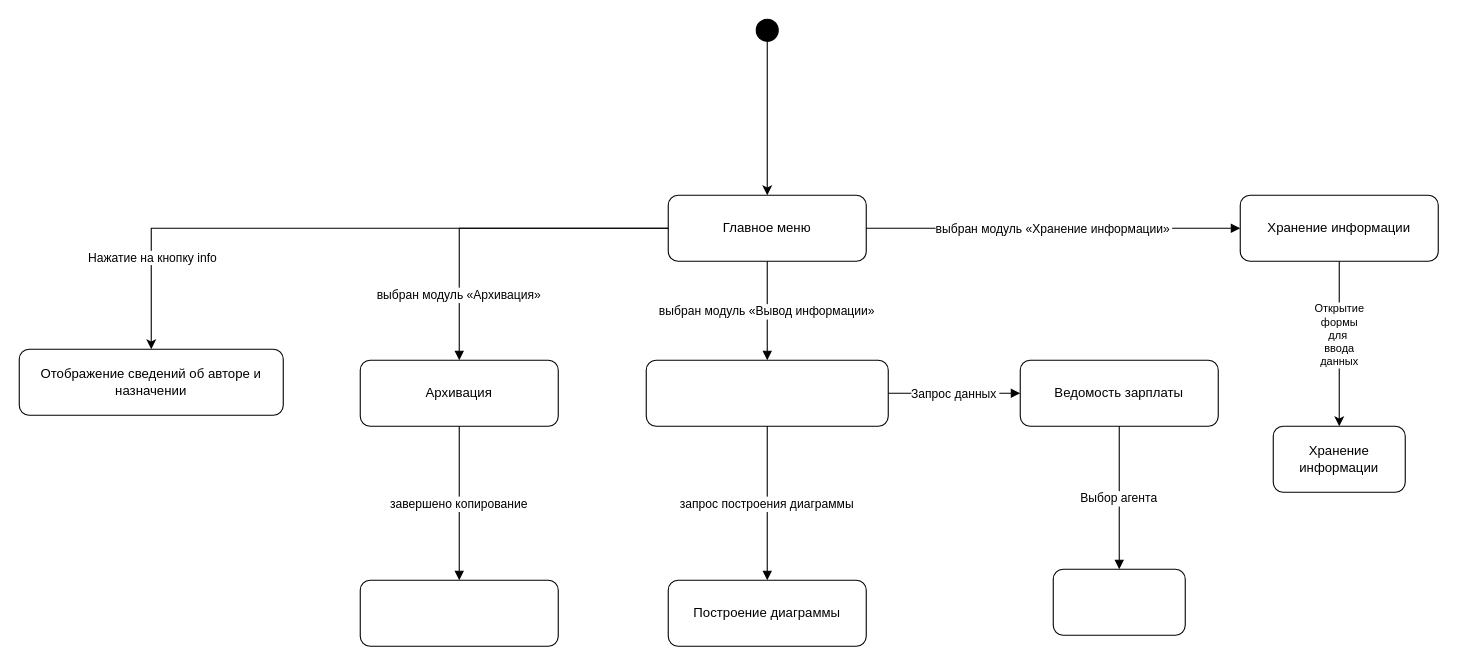
This 1458x666 diagram has some shape labels left out. Each missing label, with the centre of its shape:
"Запрос информации" goes at (x=766, y=392).
"Печать" goes at (x=1118, y=601).
"Удаление" goes at (x=458, y=612).
